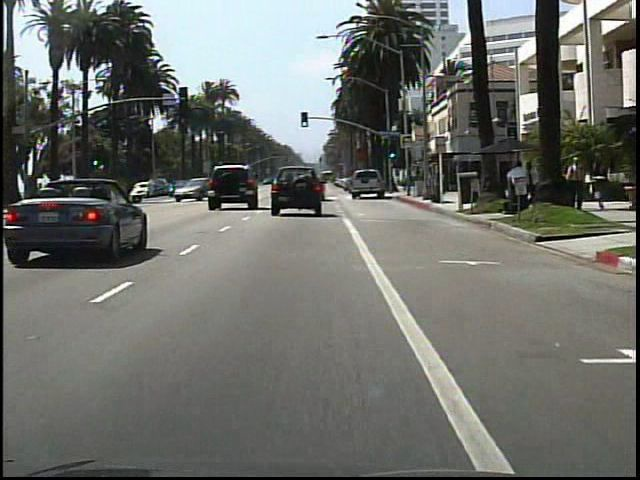person: (504, 158, 531, 216), (563, 154, 586, 213), (522, 160, 544, 217)
